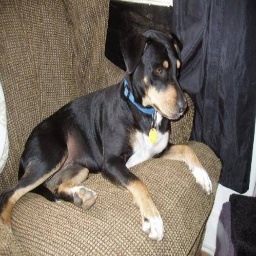dog: (3, 31, 215, 233)
